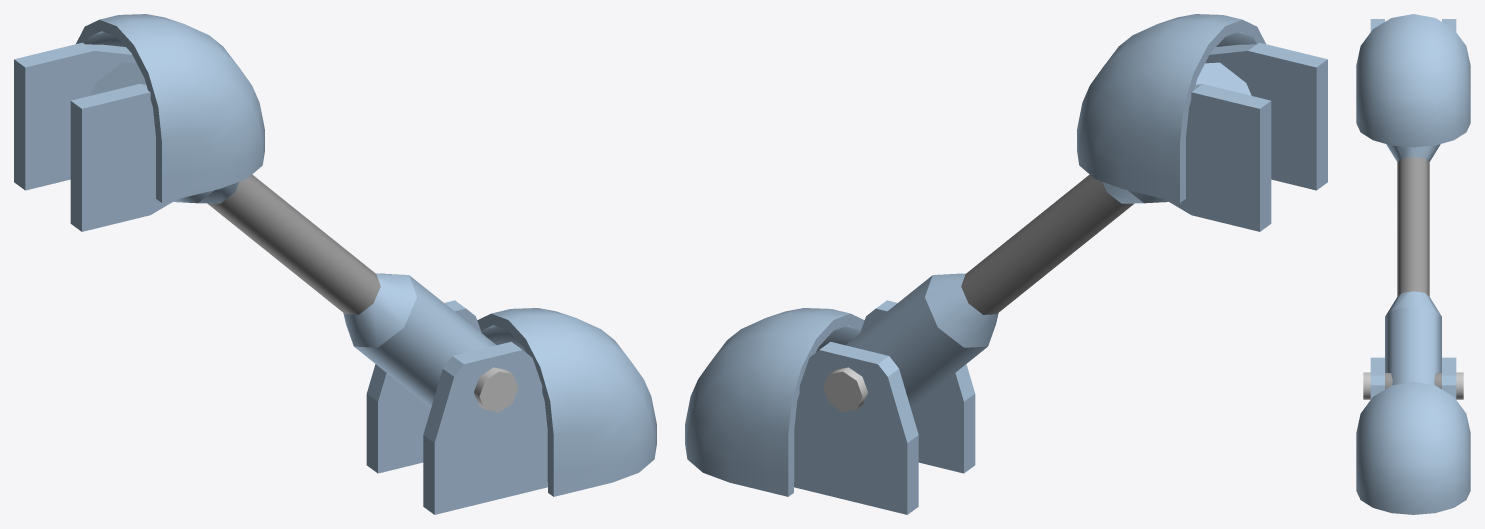
The model's file is Wall_Support_Big_snaps002 (2).fbx.
The picture shows the model from 3 angles, left to right: view 1: azimuth 30°, elevation 25°; view 2: azimuth 150°, elevation 25°; view 3: azimuth 270°, elevation 25°; orthographic projection. The views are drawn at different scales.
Parts seen in each view (by area): view 1: Wall_Support_Big_snaps002__2_.002; view 2: Wall_Support_Big_snaps002__2_.002; view 3: Wall_Support_Big_snaps002__2_.002.
Boxes of the visible parts, x1,y1,x2,y2 form: Wall_Support_Big_snaps002__2_.002: (14,14,656,514); Wall_Support_Big_snaps002__2_.002: (685,14,1327,514); Wall_Support_Big_snaps002__2_.002: (1356,14,1470,514).
Size of the model in its own units: 762 by 650 by 200.
